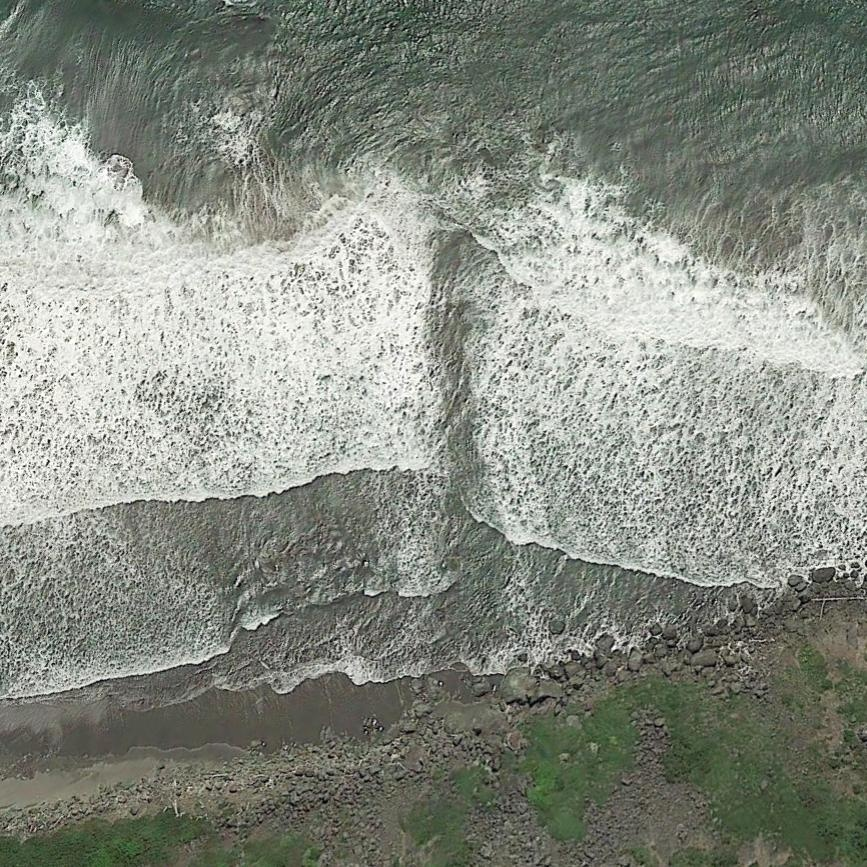rip_current: (338, 30, 607, 605)
